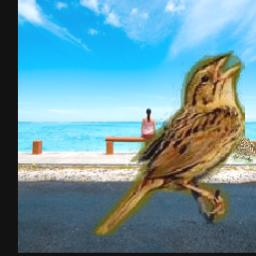Sparrow: (90, 51, 245, 236), (227, 133, 256, 169)
